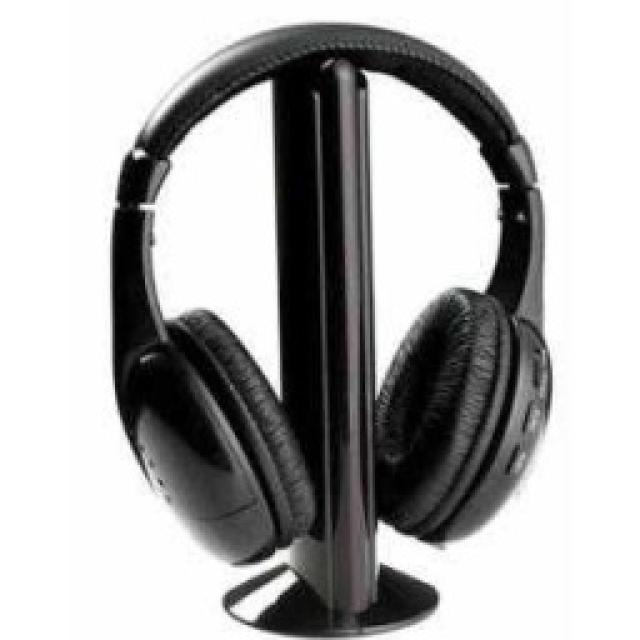headphones: (108, 18, 552, 568)
